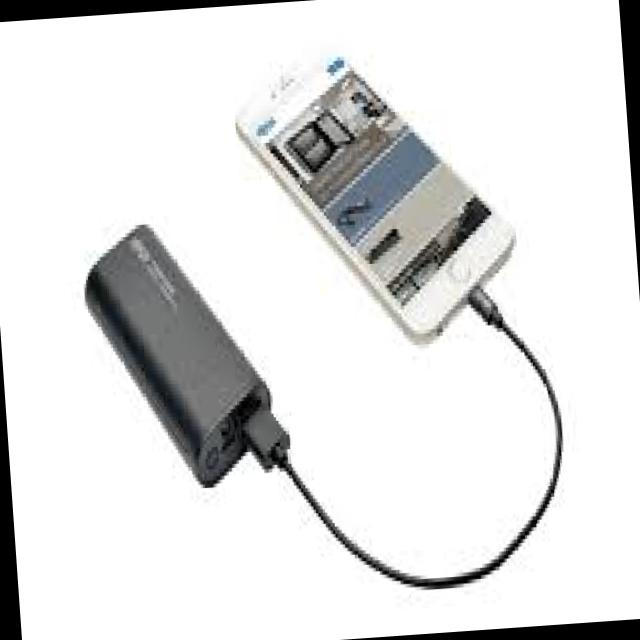power_bank: (80, 210, 282, 508)
